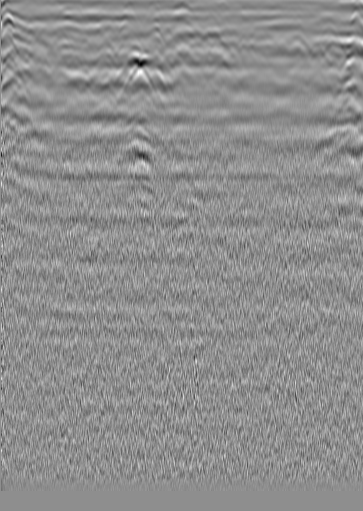가스: (112, 140, 157, 175)
상수: (285, 27, 305, 47)
오수: (34, 31, 54, 51)
우수: (172, 45, 192, 65)
